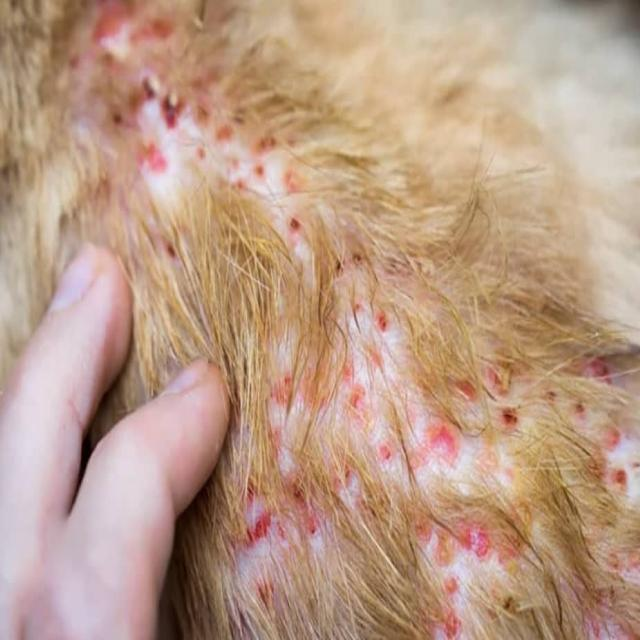di ung bo chet: (98, 25, 640, 638)
